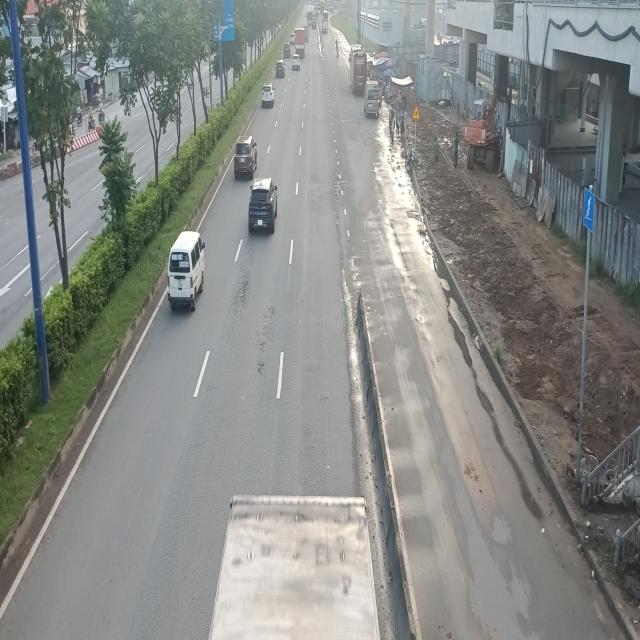car: (249, 179, 281, 234), (235, 137, 259, 180), (263, 84, 276, 109), (276, 59, 286, 80)
coach: (351, 46, 370, 95)
van: (166, 233, 206, 304), (363, 78, 379, 116)
